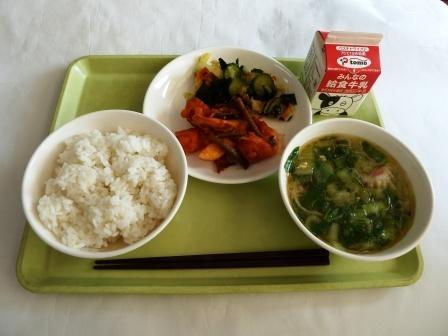Milk: (297, 29, 379, 117)
Rice: (22, 109, 180, 251)
Salad: (187, 50, 295, 117)
Soups: (285, 119, 428, 260)
cooked food based on meat: (166, 98, 283, 176)
